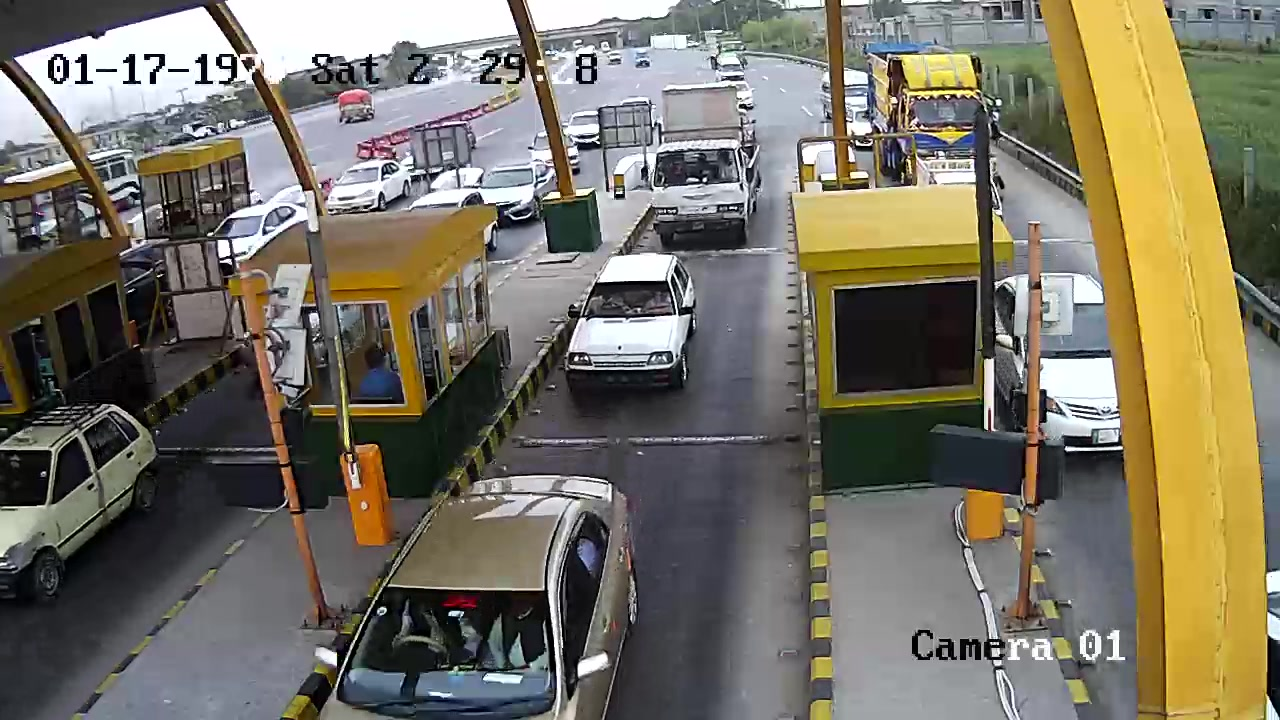F1: (563, 250, 708, 411)
